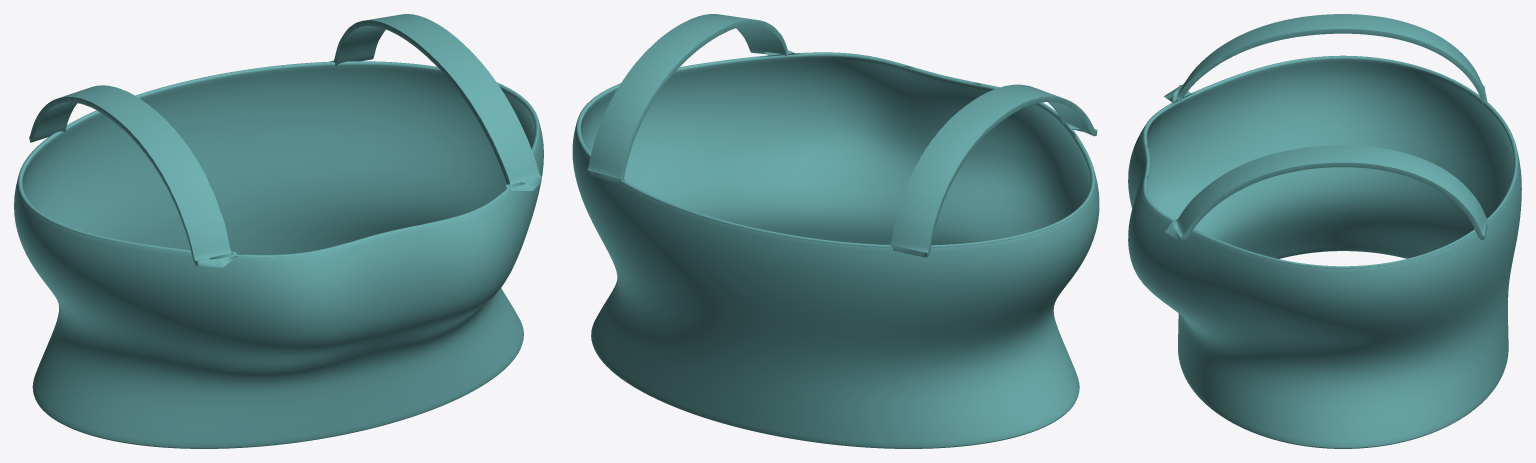
File: Feminine-tank-top.glb
The picture shows the model from 3 angles, left to right: view 1: azimuth 30°, elevation 25°; view 2: azimuth 150°, elevation 25°; view 3: azimuth 270°, elevation 25°; orthographic projection. The views are drawn at different scales.
Visible parts, largest first — view 1: Clothing / tank body, Clothing / tank seated strap -1, Clothing / tank seated strap 1, tank body stitched edge export, tank body stitched edge.001 export; view 2: Clothing / tank body, Clothing / tank seated strap -1, Clothing / tank seated strap 1, tank body stitched edge.001 export, tank body stitched edge export; view 3: Clothing / tank body, Clothing / tank seated strap 1, Clothing / tank seated strap -1, tank body stitched edge.001 export, tank body stitched edge export.
Part boxes in pixels (left/top/right/bottom): Clothing / tank body: left=14, top=61, right=543, bottom=447; Clothing / tank seated strap -1: left=29, top=85, right=237, bottom=267; Clothing / tank seated strap 1: left=330, top=14, right=541, bottom=190; tank body stitched edge export: left=32, top=328, right=523, bottom=448; tank body stitched edge.001 export: left=17, top=61, right=539, bottom=257; Clothing / tank body: left=572, top=52, right=1099, bottom=447; Clothing / tank seated strap -1: left=887, top=84, right=1097, bottom=257; Clothing / tank seated strap 1: left=587, top=14, right=794, bottom=183; tank body stitched edge.001 export: left=576, top=83, right=1095, bottom=247; tank body stitched edge export: left=591, top=329, right=1079, bottom=448; Clothing / tank body: left=1128, top=56, right=1521, bottom=447; Clothing / tank seated strap 1: left=1164, top=145, right=1487, bottom=241; Clothing / tank seated strap -1: left=1164, top=14, right=1487, bottom=104; tank body stitched edge.001 export: left=1143, top=55, right=1518, bottom=268; tank body stitched edge export: left=1181, top=362, right=1506, bottom=448.
Size of the model in its own units: 0.6876 by 0.3917 by 0.5319.
